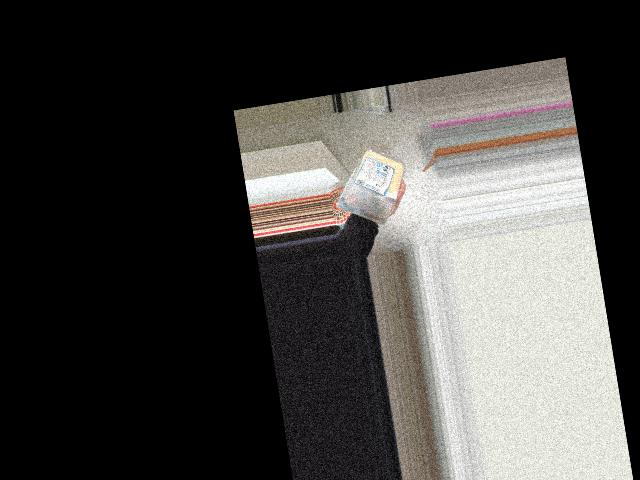cheese: (334, 142, 402, 220)
